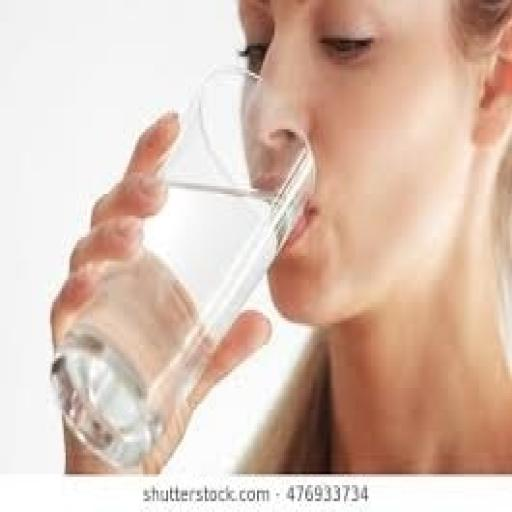drinking: (48, 62, 317, 472)
